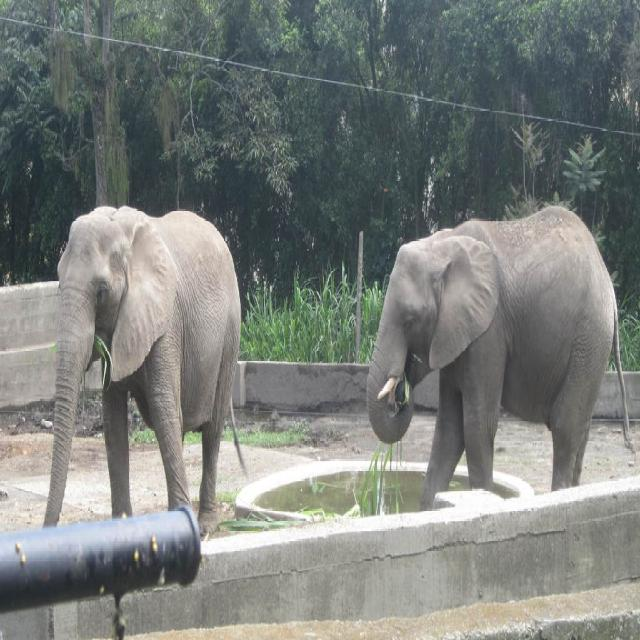Elephant: (366, 203, 634, 511), (41, 203, 248, 537)
